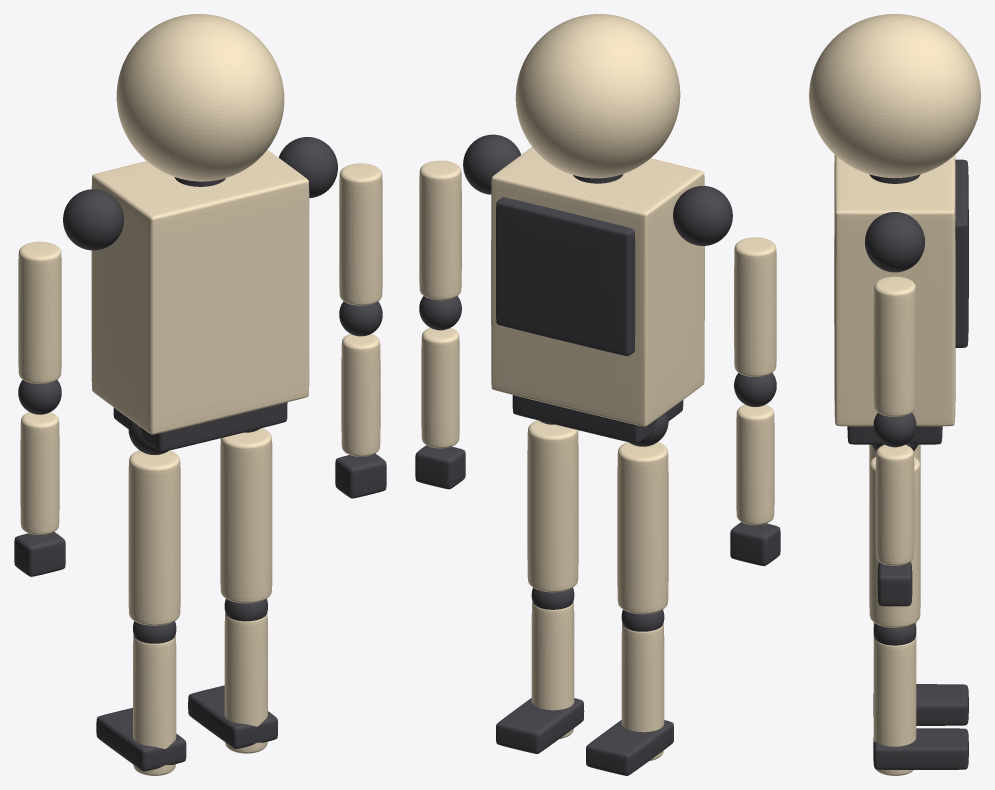
Rendered from Dummy_Mannequin_Tan_Hi.fbx.
3 renders of one model, left to right at view 1: azimuth 30°, elevation 25°; view 2: azimuth 150°, elevation 25°; view 3: azimuth 270°, elevation 25°, orthographic.
Visible parts, largest first — view 1: Torso, Head, UpperLeg_L, UpperLeg_R, UpperArm_L, UpperArm_R, LowerLeg_R, LowerLeg_L, LowerArm_L, LowerArm_R, Pelvis, Shoulder_L (+9 smaller); view 2: Torso, Head, ChestPlate, UpperLeg_L, UpperLeg_R, UpperArm_R, UpperArm_L, LowerArm_R, LowerArm_L, LowerLeg_L, LowerLeg_R, Foot_L (+10 smaller); view 3: Head, Torso, UpperArm_R, LowerLeg_R, LowerArm_R, Foot_R, UpperLeg_R, Shoulder_R, ChestPlate, Foot_L, Hand_R, Elbow_R (+2 smaller).
Part boxes in pixels (x1=…): Torso: x1=91, y1=149, x2=309, y2=434; Head: x1=116, y1=14, x2=284, y2=181; UpperLeg_L: x1=128, y1=450, x2=180, y2=625; UpperLeg_R: x1=220, y1=428, x2=272, y2=603; UpperArm_L: x1=18, y1=241, x2=61, y2=383; UpperArm_R: x1=339, y1=163, x2=382, y2=305; LowerLeg_R: x1=224, y1=613, x2=267, y2=753; LowerLeg_L: x1=133, y1=635, x2=176, y2=775; LowerArm_L: x1=20, y1=412, x2=59, y2=534; LowerArm_R: x1=341, y1=334, x2=380, y2=456; Pelvis: x1=113, y1=402, x2=287, y2=451; Shoulder_L: x1=63, y1=189, x2=123, y2=250; Torso: x1=491, y1=147, x2=704, y2=426; Head: x1=515, y1=14, x2=680, y2=178; ChestPlate: x1=496, y1=197, x2=635, y2=356; UpperLeg_L: x1=617, y1=442, x2=668, y2=614; UpperLeg_R: x1=527, y1=420, x2=578, y2=592; UpperArm_R: x1=419, y1=160, x2=461, y2=300; UpperArm_L: x1=734, y1=237, x2=776, y2=376; LowerArm_R: x1=421, y1=327, x2=459, y2=448; LowerArm_L: x1=736, y1=404, x2=774, y2=525; LowerLeg_L: x1=621, y1=623, x2=664, y2=760; LowerLeg_R: x1=531, y1=601, x2=574, y2=738; Foot_L: x1=586, y1=720, x2=673, y2=775; Head: x1=809, y1=14, x2=980, y2=177; Torso: x1=834, y1=155, x2=955, y2=426; UpperArm_R: x1=873, y1=276, x2=916, y2=416; LowerLeg_R: x1=873, y1=637, x2=916, y2=775; LowerArm_R: x1=875, y1=444, x2=914, y2=565; Foot_R: x1=873, y1=728, x2=968, y2=769; UpperLeg_R: x1=869, y1=456, x2=920, y2=627; Shoulder_R: x1=865, y1=212, x2=924, y2=272; ChestPlate: x1=955, y1=159, x2=968, y2=347; Foot_L: x1=873, y1=684, x2=968, y2=725; Hand_R: x1=877, y1=562, x2=912, y2=606; Elbow_R: x1=873, y1=413, x2=916, y2=447.
Bounding box in the file's own units: 0.9397 × 1.84 × 0.3949.
